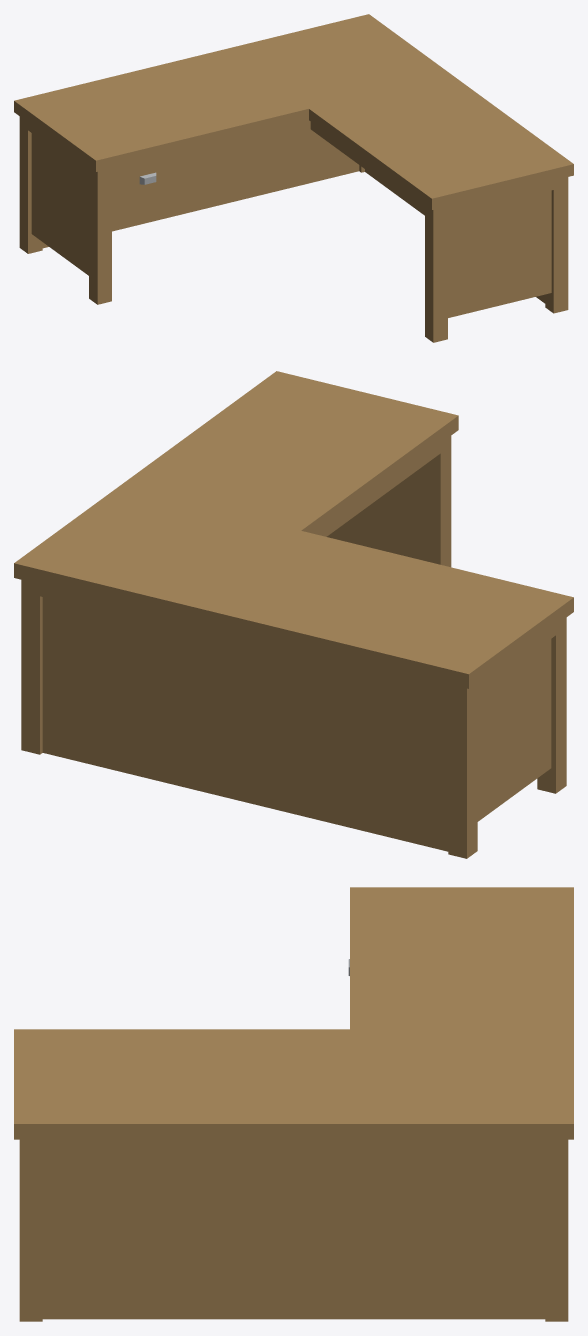
File: desk_corner.glb
The picture shows the model from 3 angles, top to bottom: view 1: azimuth 30°, elevation 25°; view 2: azimuth 150°, elevation 25°; view 3: azimuth 270°, elevation 25°; orthographic projection. The views are drawn at different scales.
Visible parts, largest first — view 1: desk_corner; view 2: desk_corner; view 3: desk_corner.
Part boxes in pixels (x1,y1,x2,y2): desk_corner: [14, 14, 573, 342]; desk_corner: [14, 371, 573, 858]; desk_corner: [14, 887, 573, 1321].
Bounding box in the file's own units: 1.95 × 0.7688 × 1.95.
